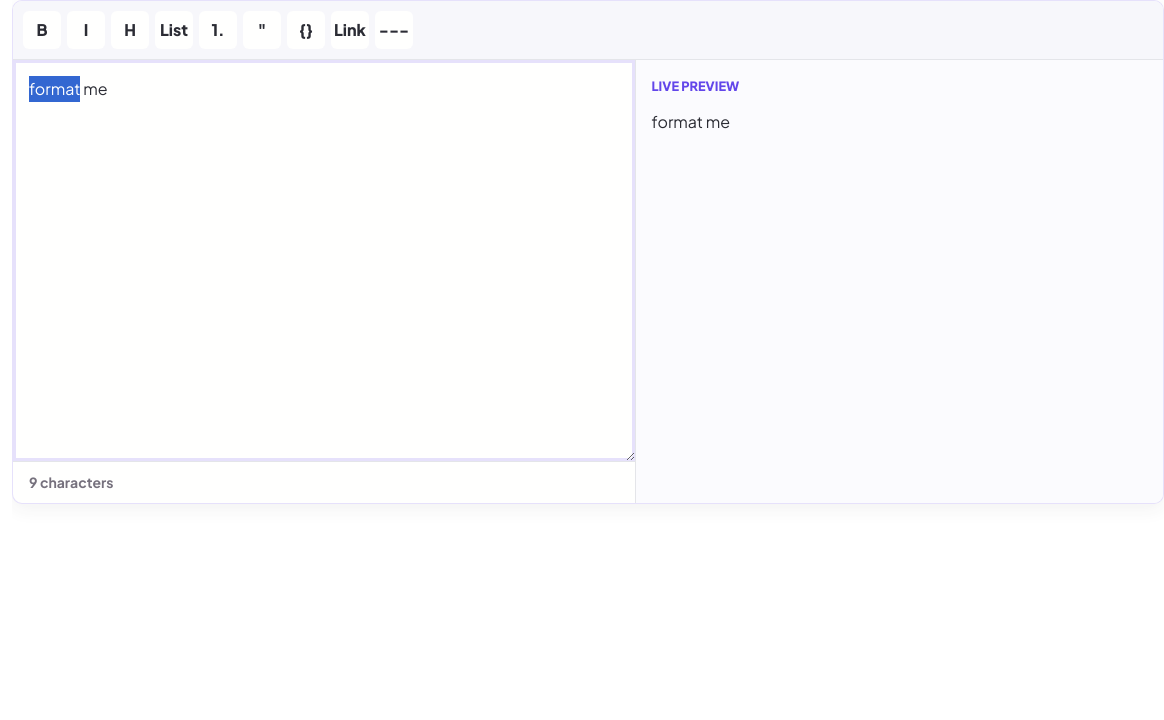
MarkdownEditor › formats selected textarea text from the toolbar
Click the button named "bold".
click(42, 30)  # box left=23, top=11, right=61, bottom=49
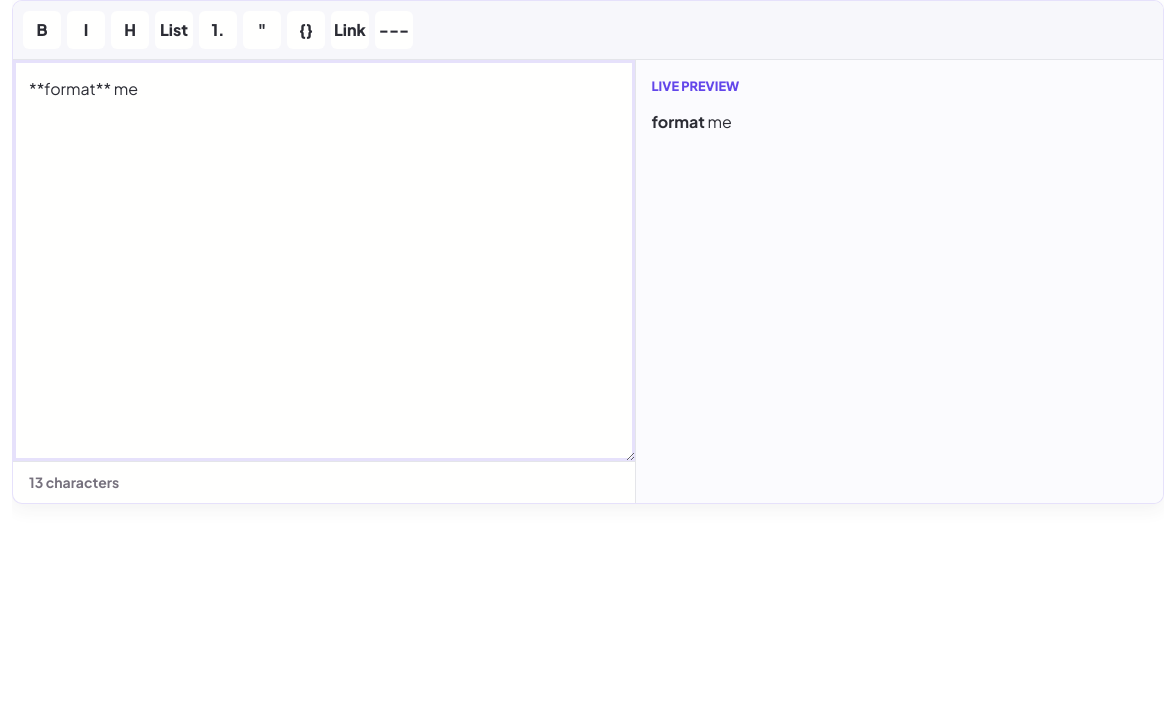
Expected: the text box holds "**format** me", left=13, top=60, right=635, bottom=462
